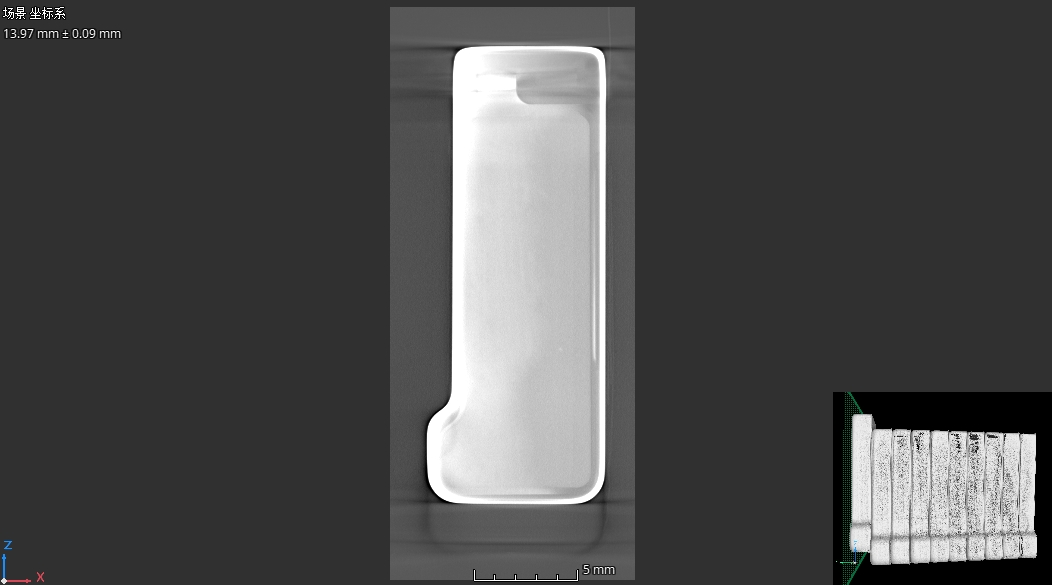light: (556, 345, 565, 354)
